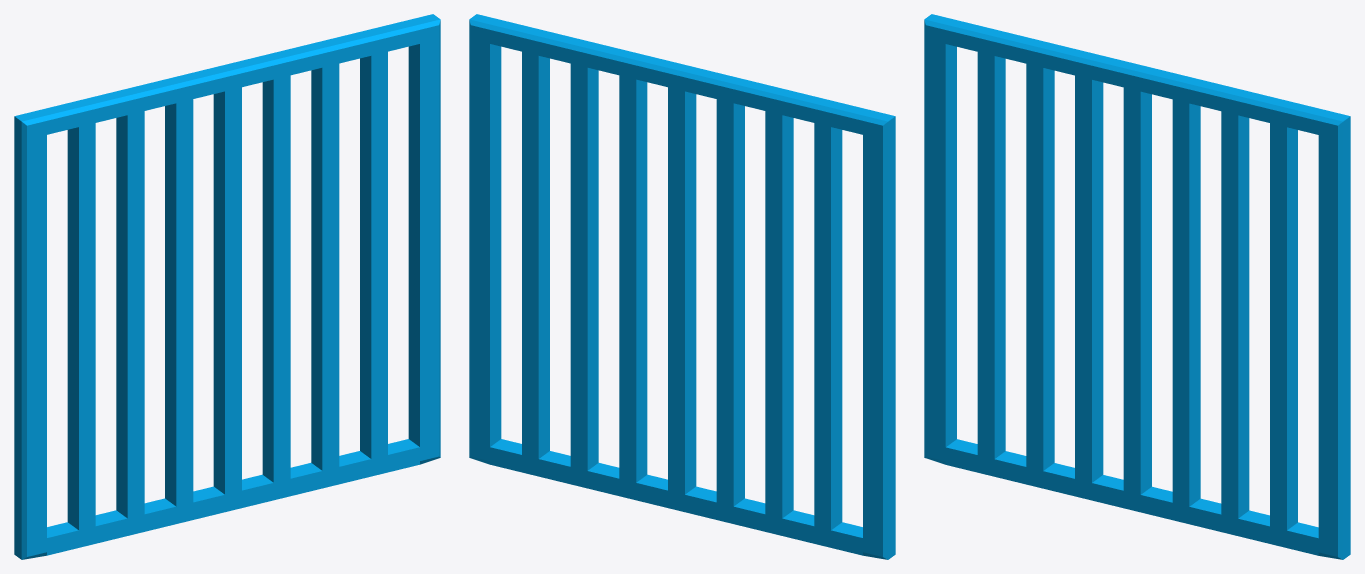
Rendered from Door.FBX.
The picture shows the model from 3 angles, left to right: view 1: azimuth 30°, elevation 25°; view 2: azimuth 150°, elevation 25°; view 3: azimuth 330°, elevation 25°; orthographic projection.
Parts seen in each view (by area): view 1: Door; view 2: Door; view 3: Door.
Boxes of the visible parts, <box> form: Door: <box>14,14,440,559</box>; Door: <box>469,14,895,559</box>; Door: <box>924,14,1350,559</box>.
Bounding box in the file's own units: 250 × 250 × 11.63.
